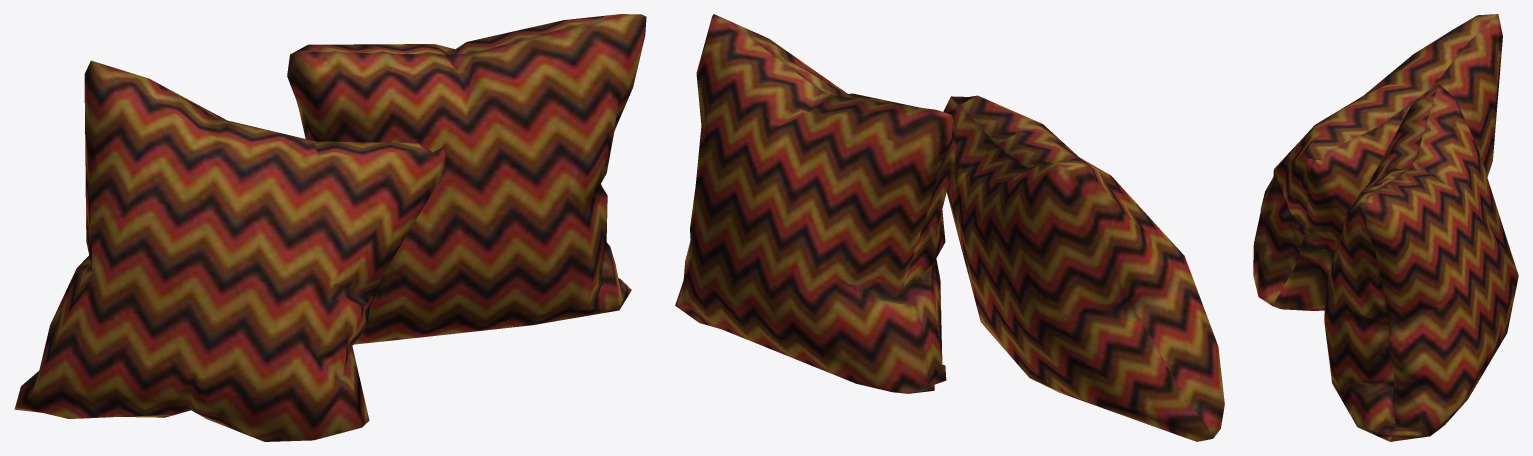
Rendered from pillows.glb.
3 renders of one model, left to right at view 1: azimuth 30°, elevation 25°; view 2: azimuth 150°, elevation 25°; view 3: azimuth 270°, elevation 25°, orthographic. The views are drawn at different scales.
Visible parts, largest first — view 1: pillows; view 2: pillows; view 3: pillows.
Part boxes in pixels (x1=…): pillows: x1=14, y1=14, x2=646, y2=441; pillows: x1=675, y1=14, x2=1224, y2=441; pillows: x1=1253, y1=14, x2=1518, y2=441.
Bounding box in the file's own units: 0.9342 × 0.4467 × 0.4465.
1 material, 1 textured.
